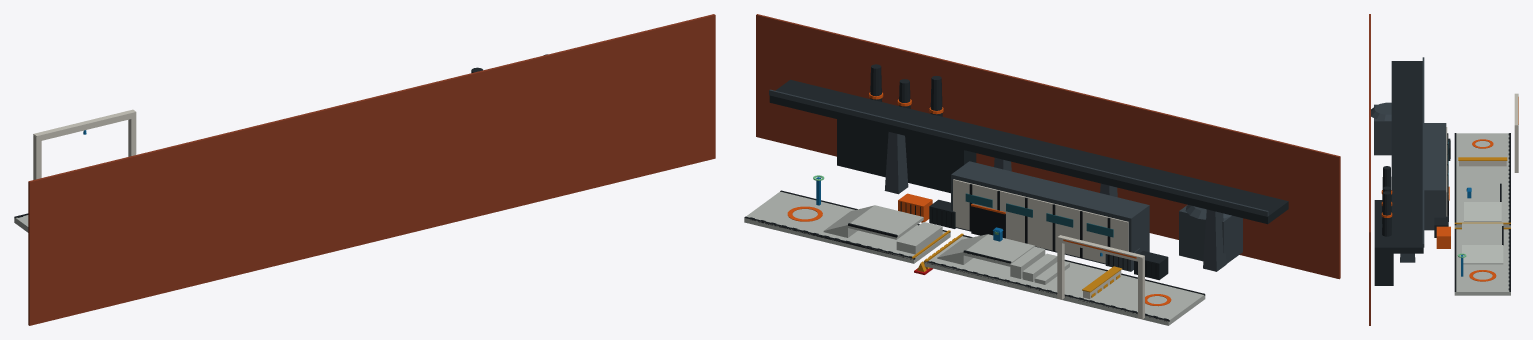
File: central_industrial_belt_demo.obj
3 renders of one model, left to right at view 1: azimuth 30°, elevation 25°; view 2: azimuth 150°, elevation 25°; view 3: azimuth 270°, elevation 25°, orthographic. The views are drawn at different scales.
Parts seen in each view (by area): view 1: SunsetBackdrop, GantryBeam; view 2: SunsetBackdrop, OverpassDeck, WarehouseFacade, WarehouseMain, DistantFactory, Floor_Start, OverpassGuard, Floor_Finish, Floor_Training, DistantTank, Floor_JumpExit, HighPlatform (+15 smaller); view 3: OverpassDeck, WarehouseMain, Floor_Start, Floor_Finish, DistantFactory, Floor_Training, HighPlatformRamp, TrainingRampDown, HighPlatform, DistantTank, SunsetBackdrop, RaisedTrainingDeck (+19 smaller).
Boxes of the visible parts, x1,y1,x2,y2 form: SunsetBackdrop: (28,14,715,325); GantryBeam: (33,109,136,141); SunsetBackdrop: (756,14,1340,279); OverpassDeck: (769,79,1288,224); WarehouseFacade: (953,179,1128,263); WarehouseMain: (951,161,1149,264); DistantFactory: (837,119,976,193); Floor_Start: (1052,266,1205,325); OverpassGuard: (769,89,1268,216); Floor_Finish: (744,191,854,242); Floor_Training: (924,236,1087,297); DistantTank: (1179,205,1242,263); Floor_JumpExit: (829,225,950,263); HighPlatform: (848,205,923,239); OverpassDeck: (1391,61,1423,253); WarehouseMain: (1424,123,1446,230); Floor_Start: (1456,133,1509,176); Floor_Finish: (1454,260,1510,295); DistantFactory: (1374,200,1393,285); Floor_Training: (1454,177,1510,227); HighPlatformRamp: (1462,245,1503,264); TrainingRampDown: (1464,202,1501,221); HighPlatform: (1462,226,1501,244); DistantTank: (1374,104,1391,155); SunsetBackdrop: (1369,14,1370,325); RaisedTrainingDeck: (1464,184,1499,201).
Size of the model in its own units: 55 by 11.73 by 15.94.
